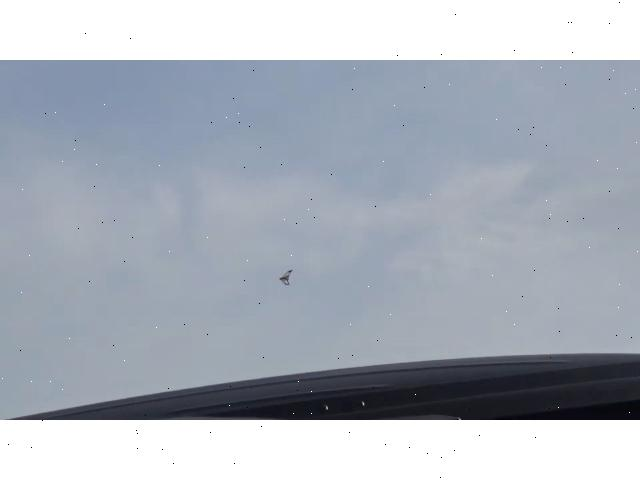Anti-Drone: (280, 271, 292, 286)
